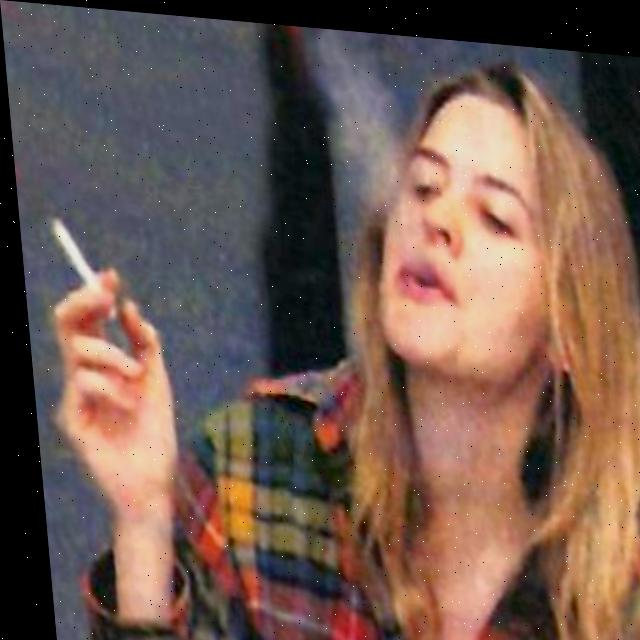cigarette: (45, 215, 108, 317)
